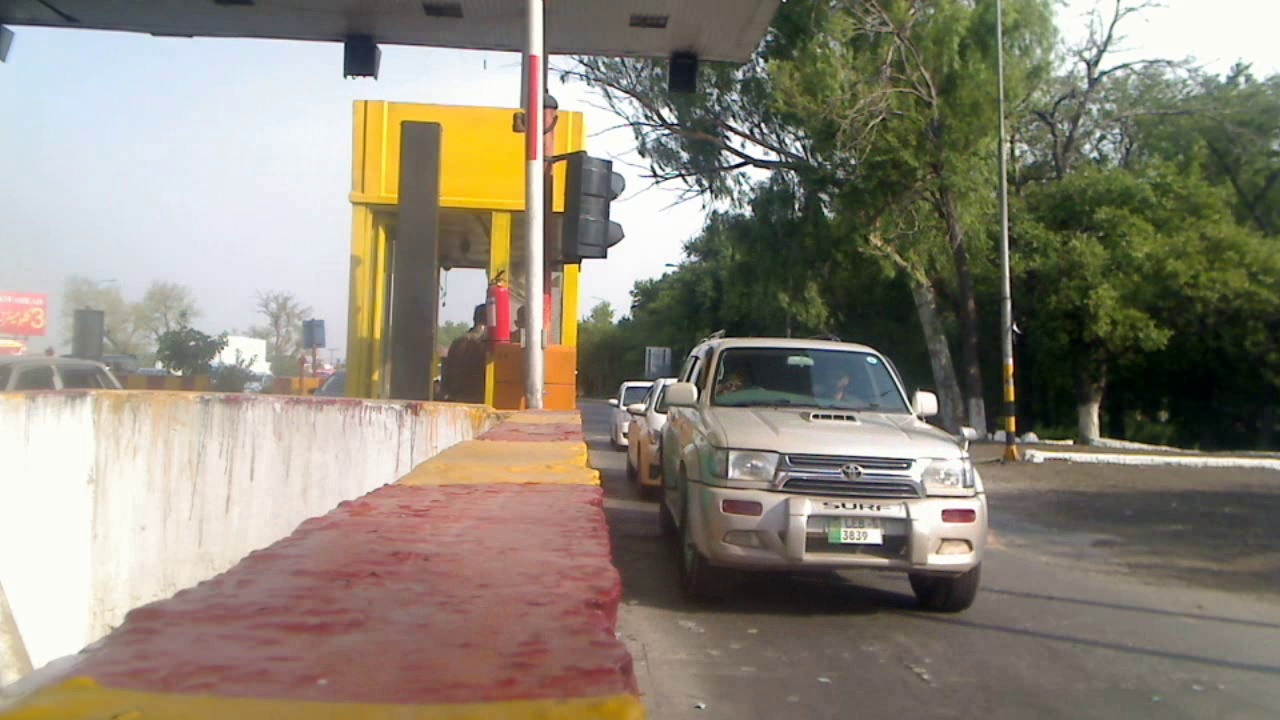Number Plate (Car): (831, 517, 880, 542)
